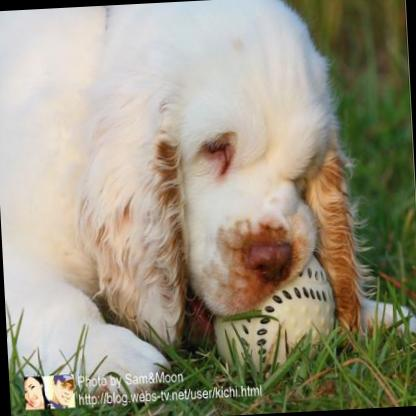clumber: (0, 0, 416, 405)
